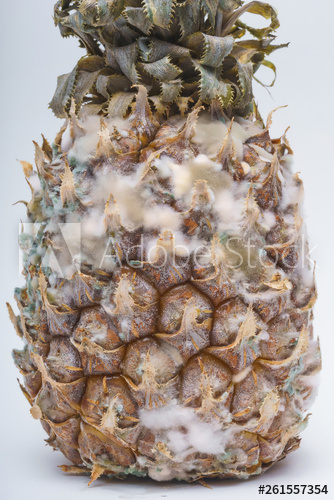damaged_pineapple: (19, 72, 308, 477)
